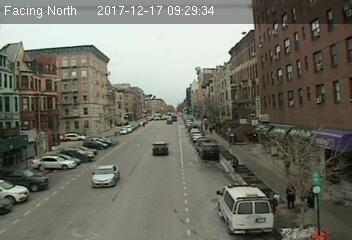car: (90, 165, 120, 188), (201, 144, 219, 161), (151, 141, 170, 156)
pedestrian: (285, 179, 296, 210)
police: (214, 180, 273, 235)
